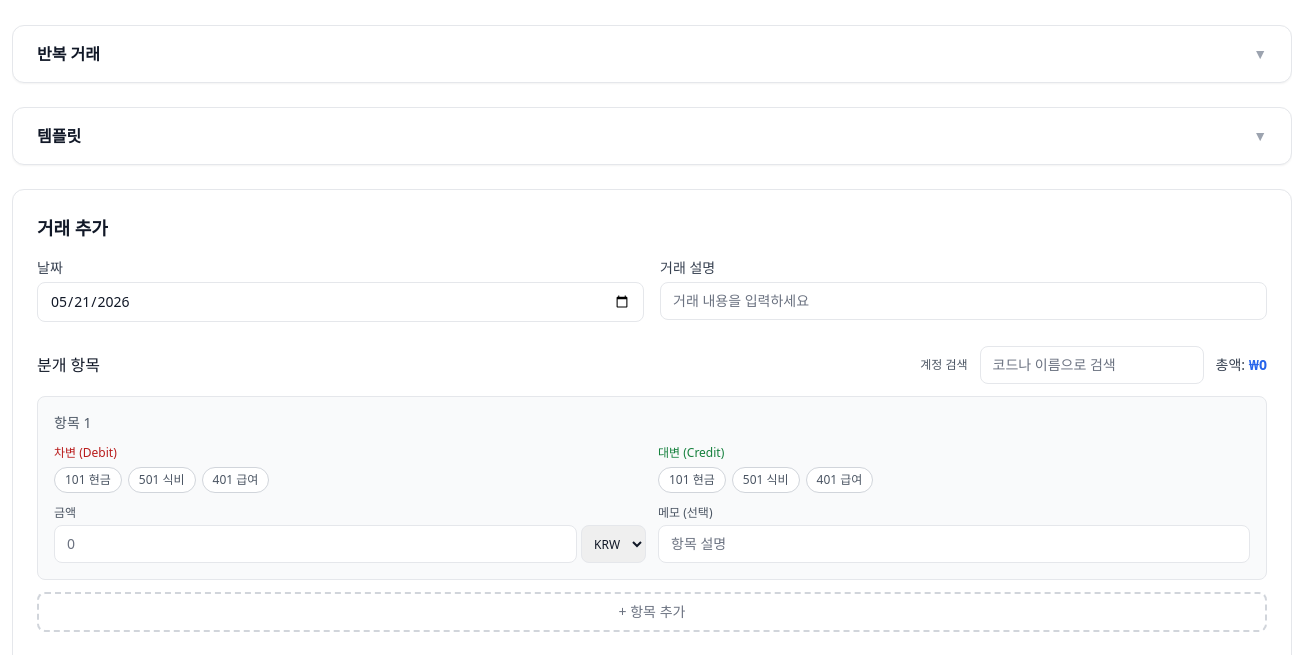
Test: TransactionsPage › 폼 유효성 검증 - 필수 필드 누락
Check: the heading "거래 추가" is shown, box [37, 214, 108, 242]
Step 1. Click the button "101 현금" below "차변 (Debit)" → (88, 480), box [54, 467, 122, 493]
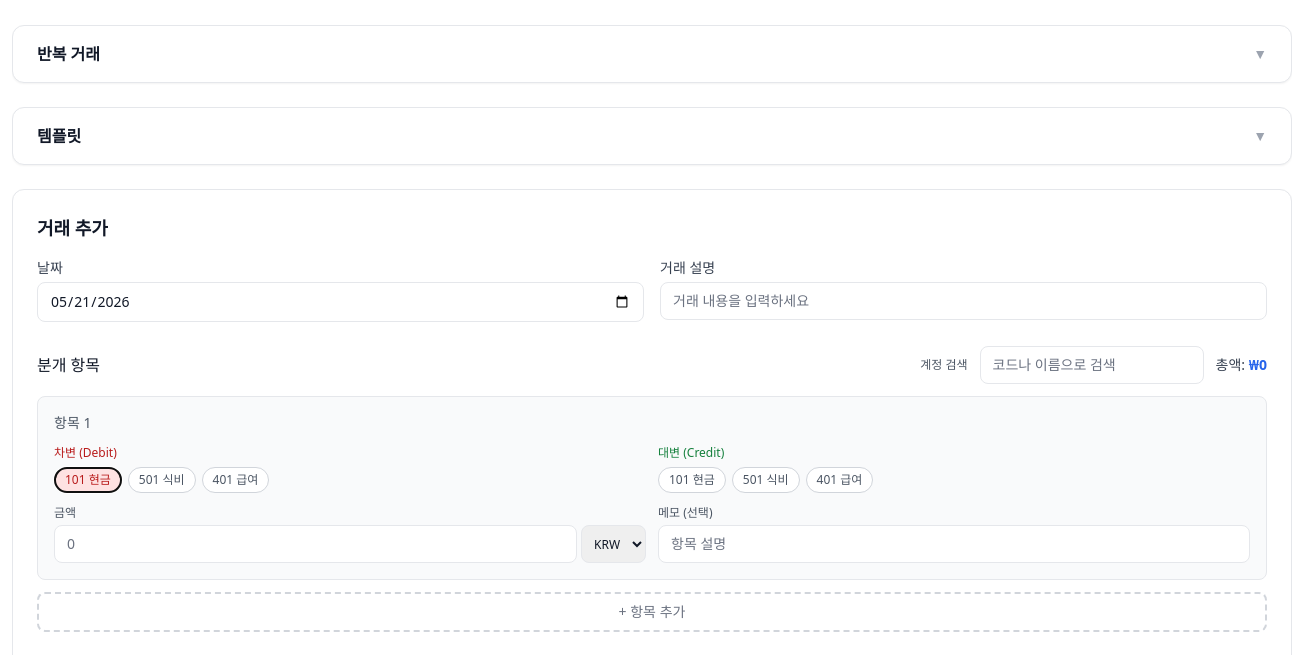
# 설명 입력 (required 필드이므로)
Step 2. Type "테스트" into the field with placeholder "거래 내용을 입력하세요" → (964, 301), box [660, 282, 1267, 320]
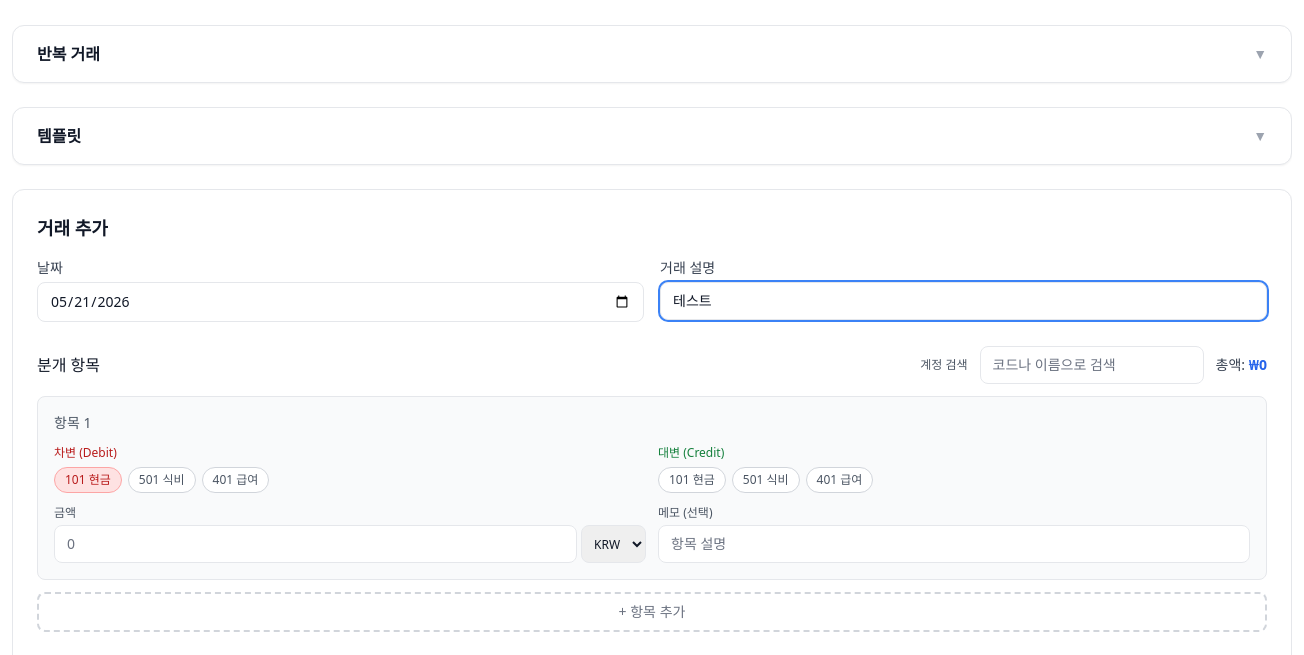
Step 3. Type "10000" into the number field with placeholder "0" → (316, 544), box [54, 525, 577, 563]
(page scrolled)
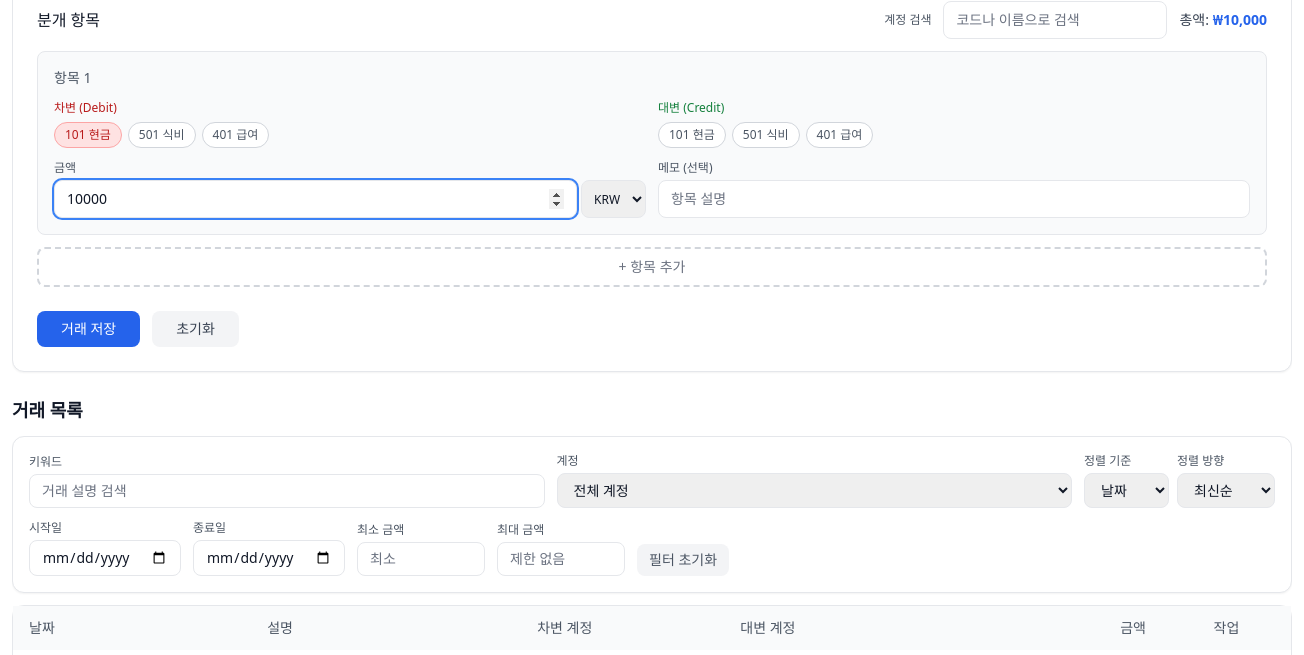
# 대변 계정 없이 제출
Step 4. Click the button "거래 저장" → (89, 329), box [37, 311, 140, 347]
(page scrolled)
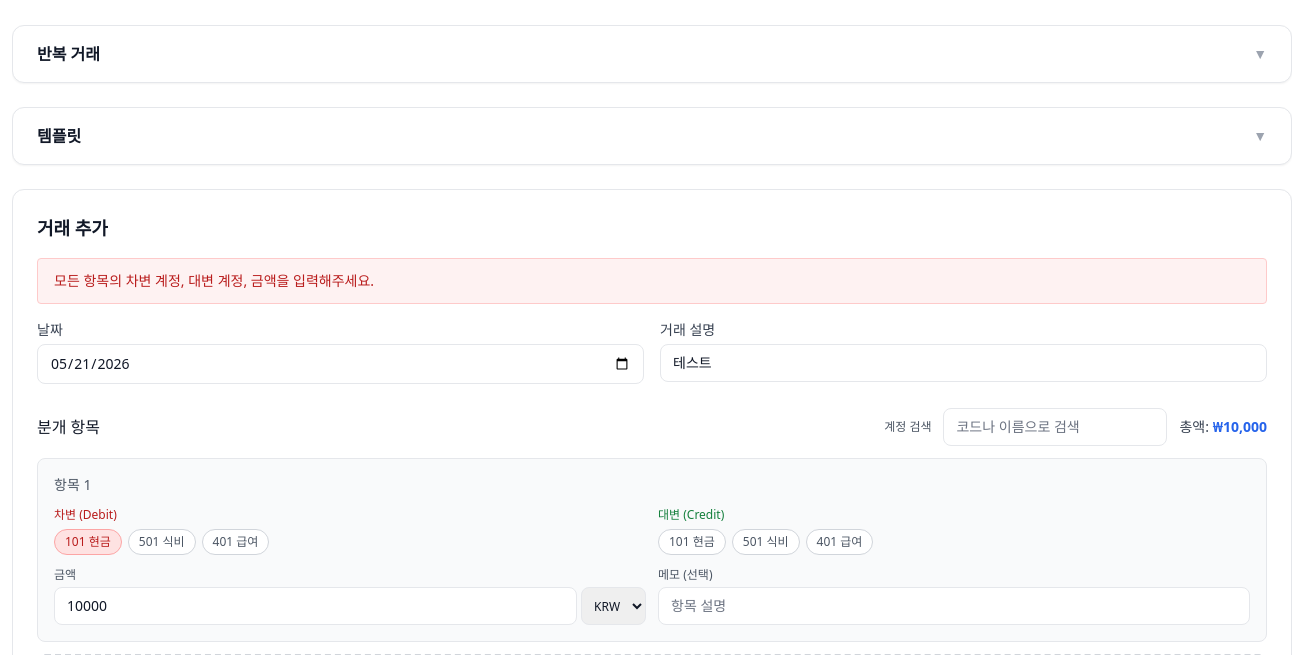
Check: the text "모든 항목의 차변 계정, 대변 계정, 금액을 입력해주세요." is shown, box [37, 258, 1267, 304]
